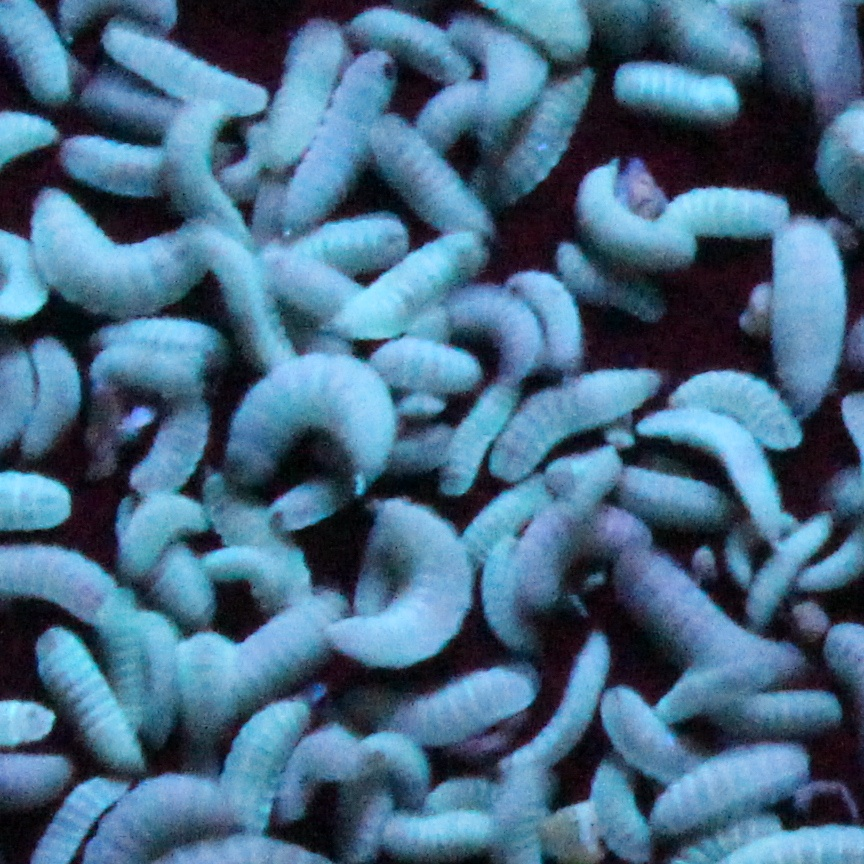larve: (627, 391, 803, 560), (20, 178, 222, 323), (608, 536, 798, 688), (327, 488, 468, 675), (226, 351, 399, 486), (339, 214, 511, 345), (364, 97, 495, 249), (645, 729, 818, 833), (499, 622, 613, 776), (33, 624, 148, 774), (768, 214, 847, 407), (570, 149, 700, 266), (258, 11, 351, 166), (208, 693, 296, 832), (656, 166, 789, 249), (611, 50, 750, 126), (186, 537, 319, 614), (391, 675, 536, 745), (508, 261, 587, 376), (437, 283, 550, 362), (374, 795, 508, 860), (117, 490, 209, 576), (26, 326, 81, 464), (342, 733, 426, 789)
